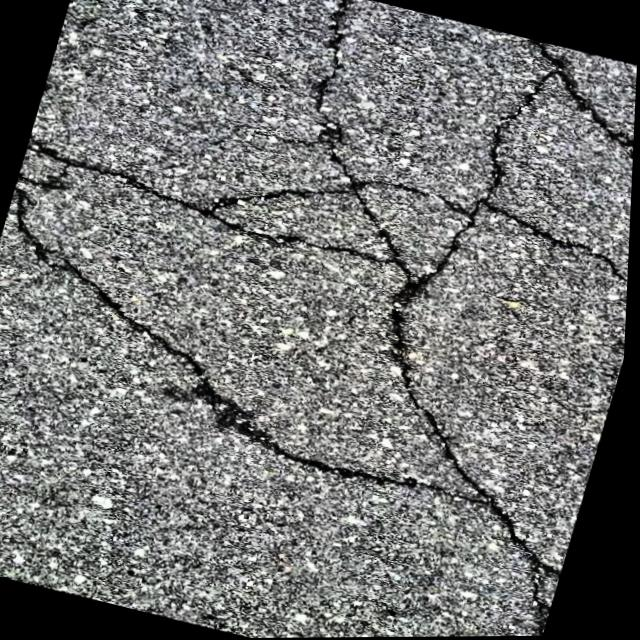cracks: (14, 181, 265, 441), (29, 141, 391, 262), (314, 0, 356, 193), (412, 200, 482, 296), (397, 336, 419, 409)
